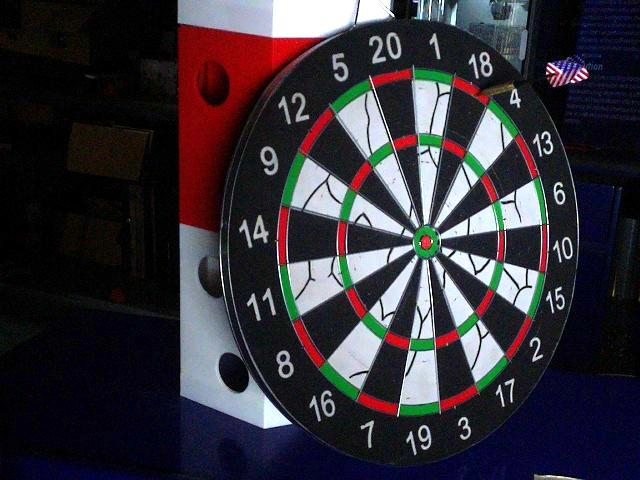double_18: (454, 78, 491, 106)
